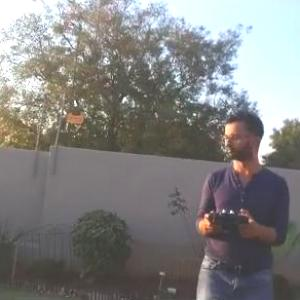follow: (191, 107, 294, 299)
